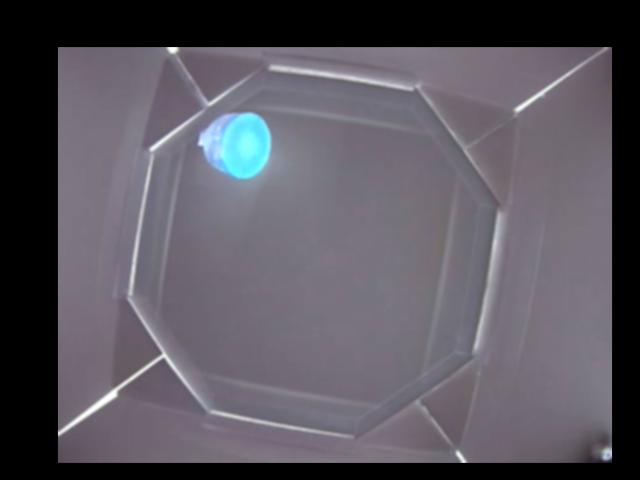Carrot: (199, 112, 270, 177)
